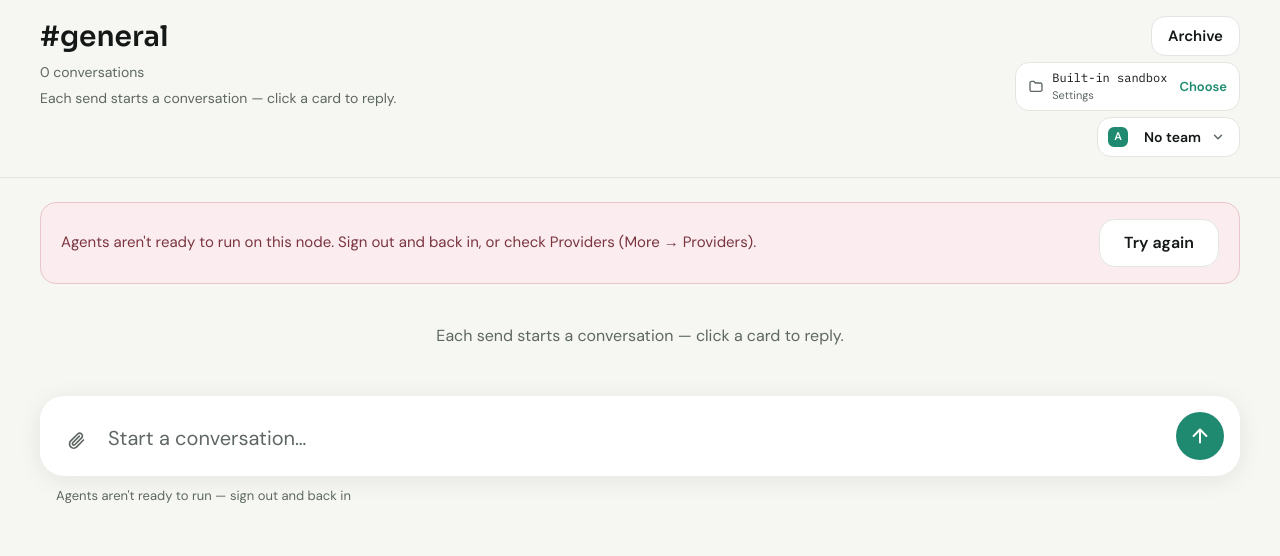
Scenario: channels/[id]/+page.svelte › shows Routing… while the create request is in flight (#413)
Type "@Assistant ping" into the text box with placeholder "Start a conversation…".
click(636, 438); type("@Assistant ping")  # box x1=108 y1=416 x2=1164 y2=460
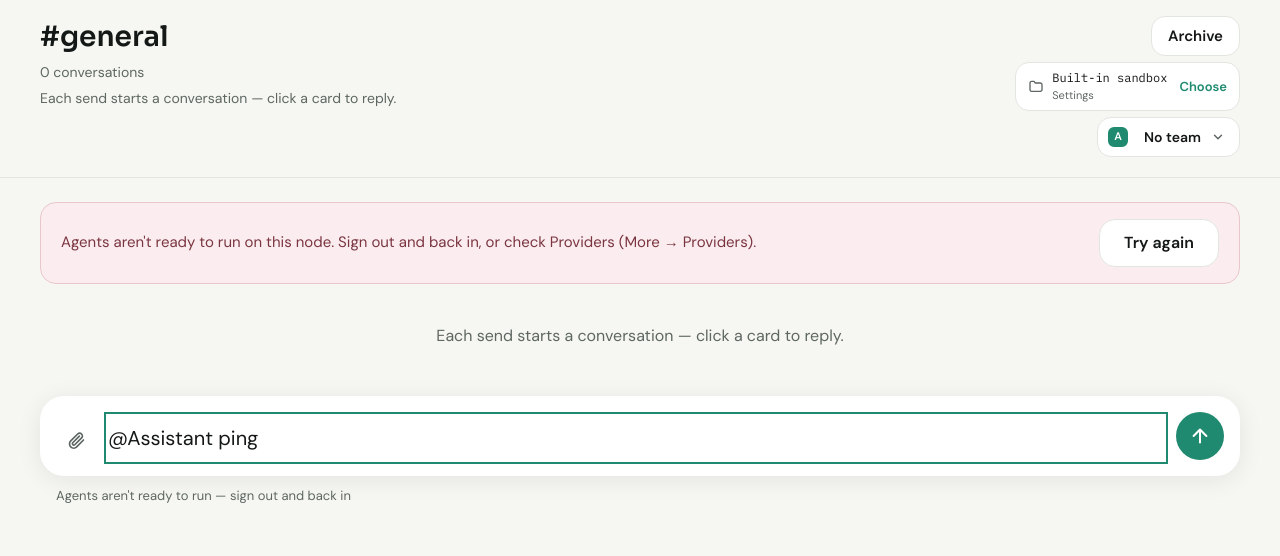
Click the button named "Send".
click(1200, 436)  # box x1=1176 y1=412 x2=1224 y2=460
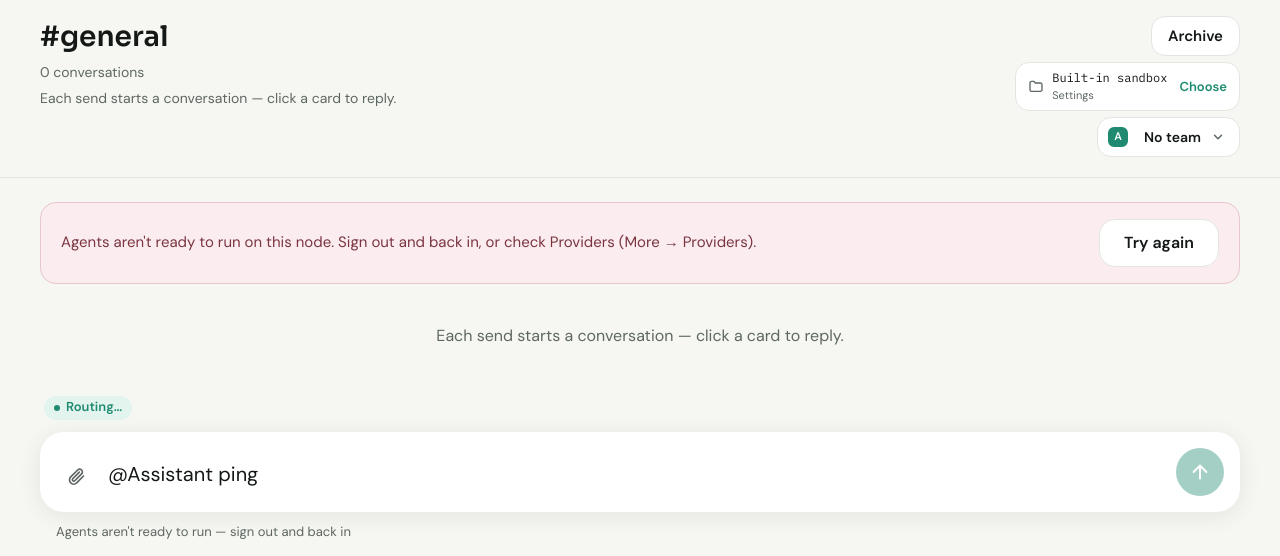
Check: the text "Routing…" is shown, box x1=44 y1=396 x2=132 y2=420
